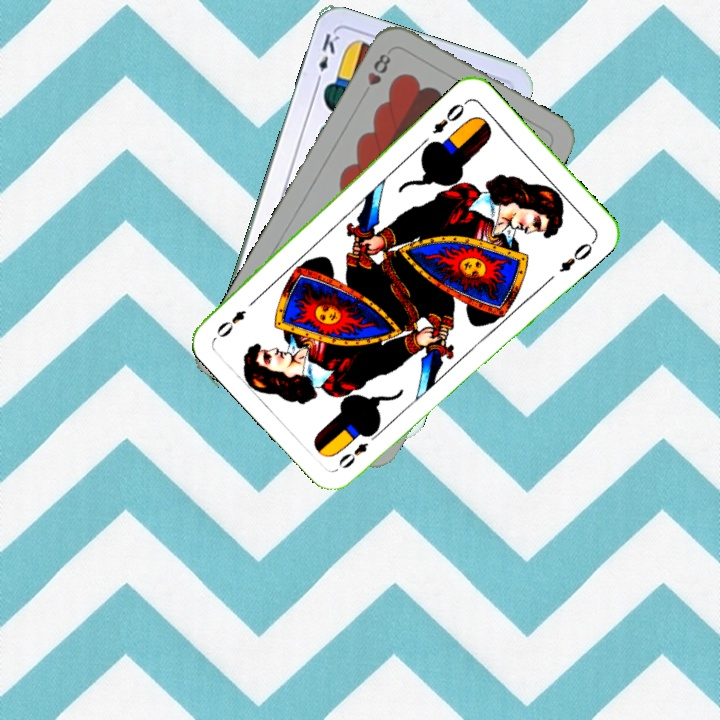EK: (312, 29, 342, 87)
EO: (334, 427, 382, 472), (428, 96, 471, 137)
H8: (358, 49, 394, 100)
